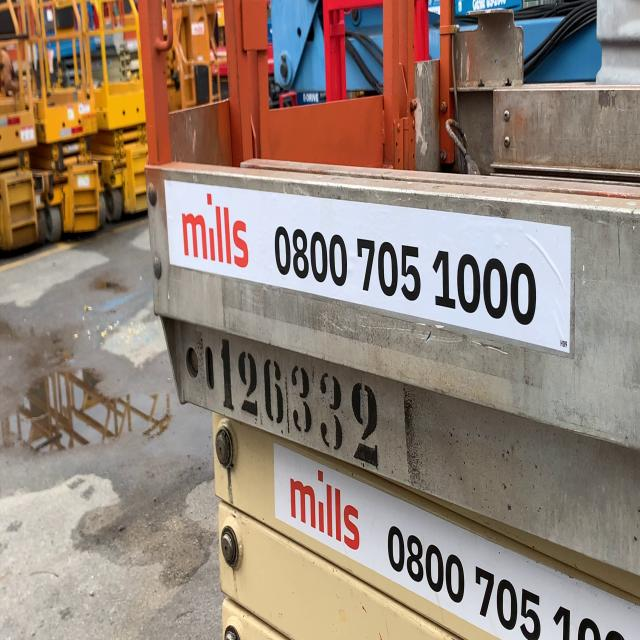Adesivo Longo: (162, 175, 577, 361)
